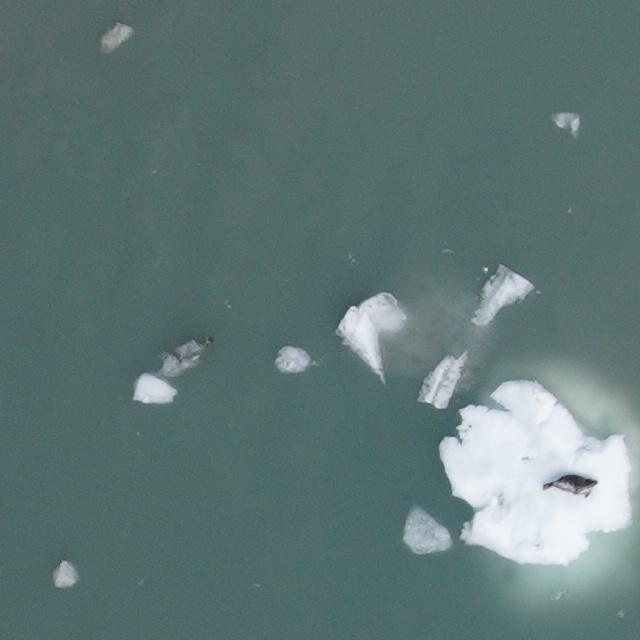seal: (543, 473, 601, 497)
